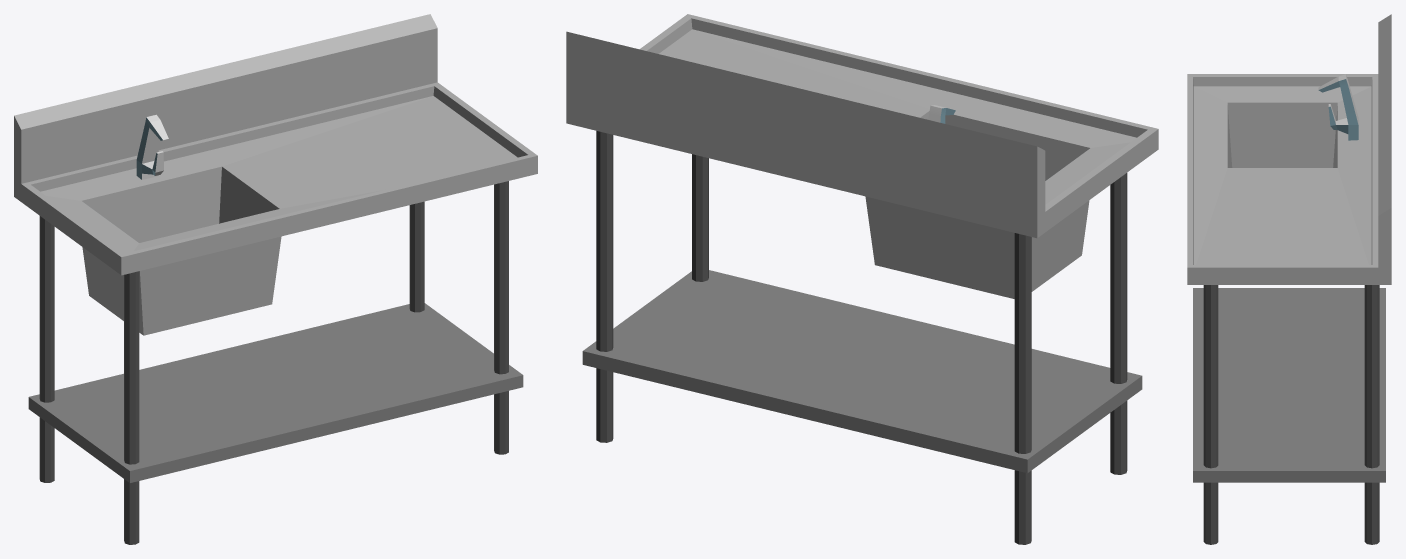
The model's file is Prep_station.fbx.
The picture shows the model from 3 angles, left to right: view 1: azimuth 30°, elevation 25°; view 2: azimuth 150°, elevation 25°; view 3: azimuth 270°, elevation 25°; orthographic projection. The views are drawn at different scales.
Parts seen in each view (by area): view 1: Kitchen_prep_station:pCylinder5; view 2: Kitchen_prep_station:pCylinder5; view 3: Kitchen_prep_station:pCylinder5.
Boxes of the visible parts, left/top/right/bottom form: Kitchen_prep_station:pCylinder5: left=14, top=14, right=537, bottom=544; Kitchen_prep_station:pCylinder5: left=566, top=14, right=1158, bottom=544; Kitchen_prep_station:pCylinder5: left=1187, top=14, right=1391, bottom=544.
Size of the model in its own units: 38.55 by 32.04 by 17.21.
